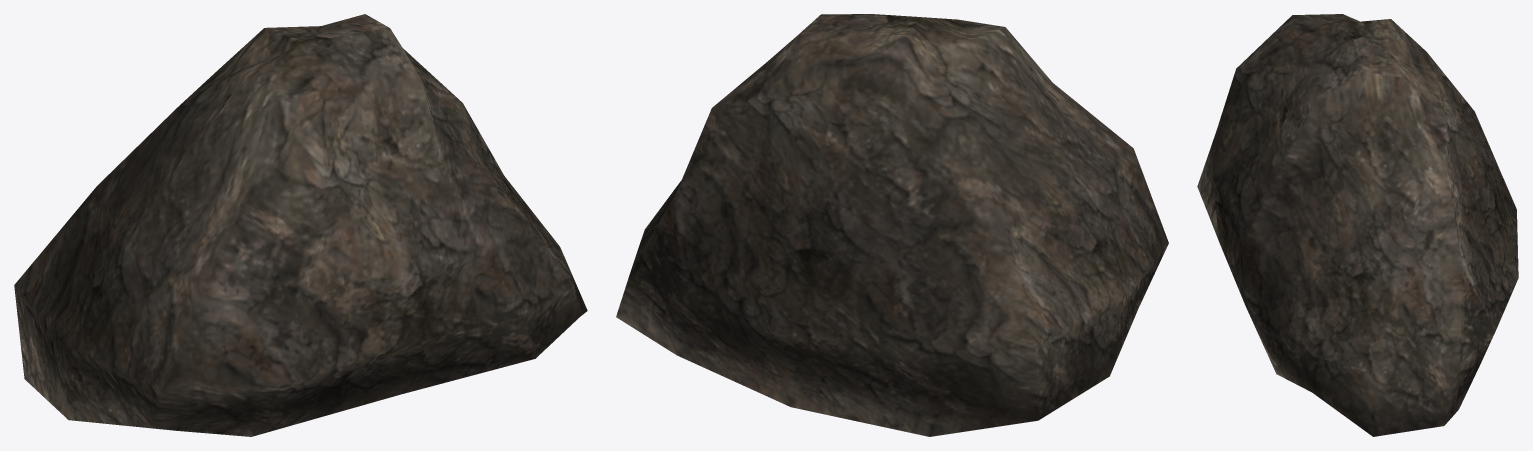
File: Rock_04.glb
3 renders of one model, left to right at view 1: azimuth 30°, elevation 25°; view 2: azimuth 150°, elevation 25°; view 3: azimuth 270°, elevation 25°, orthographic. The views are drawn at different scales.
Parts seen in each view (by area): view 1: Rock_04.001; view 2: Rock_04.001; view 3: Rock_04.001.
Part boxes in pixels (bbox=[...]): Rock_04.001: bbox=[14, 14, 587, 436]; Rock_04.001: bbox=[616, 14, 1168, 436]; Rock_04.001: bbox=[1197, 14, 1518, 436].
Bounding box in the file's own units: 7.8 × 5.4 × 4.95.
Materials: 1 (1 with a texture image).
